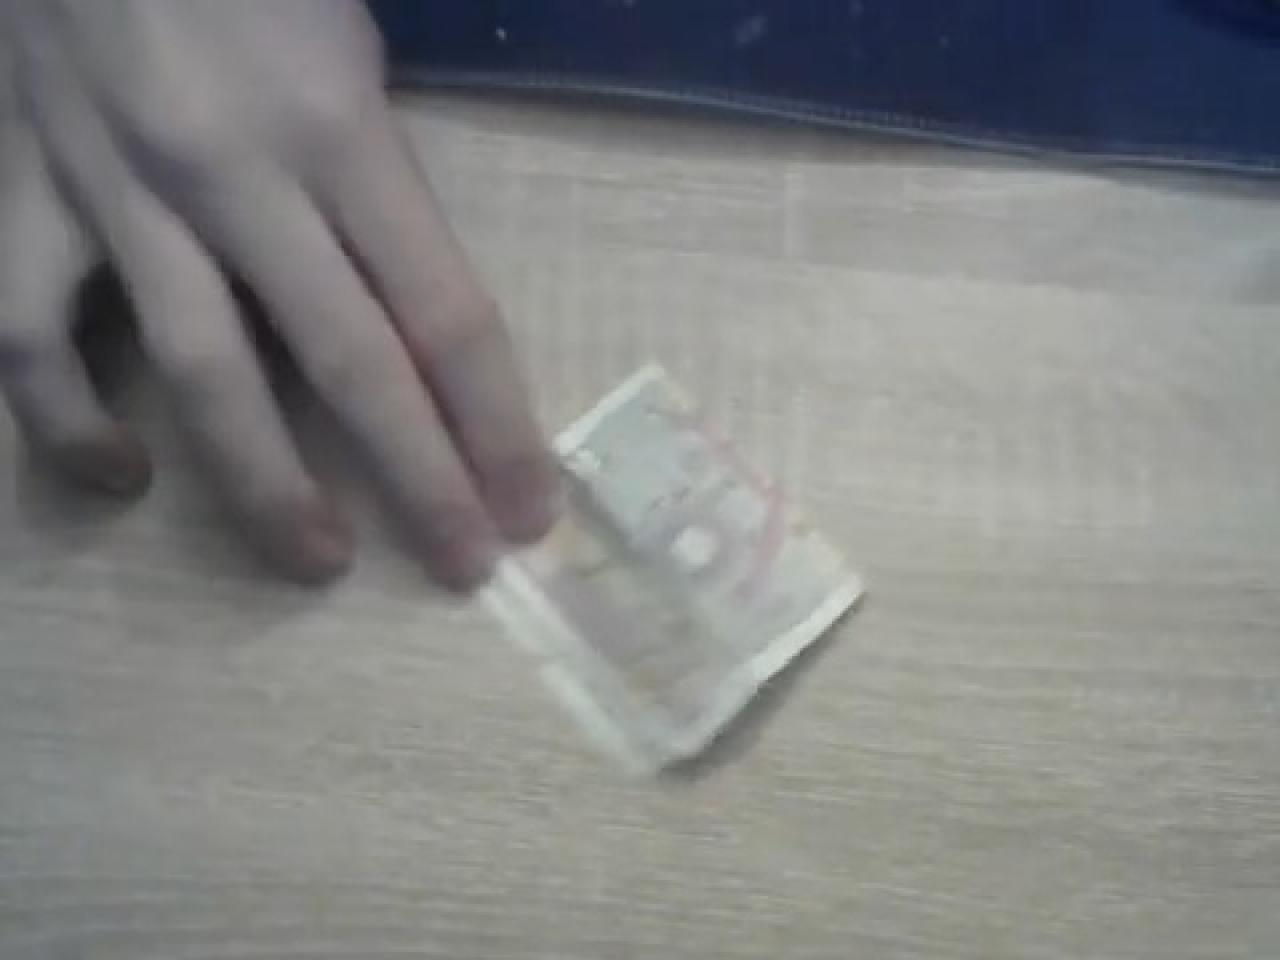10leva: (470, 355, 870, 782)
